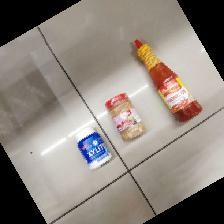Hao_hao: (104, 92, 146, 142)
Tuong: (133, 38, 205, 125)
Xylitol_blue: (71, 125, 112, 172)
